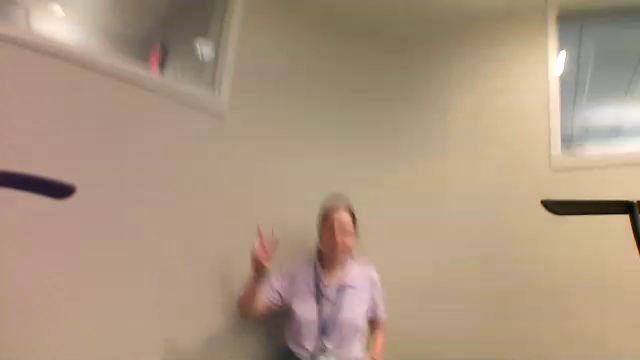peace: (250, 218, 282, 275)
